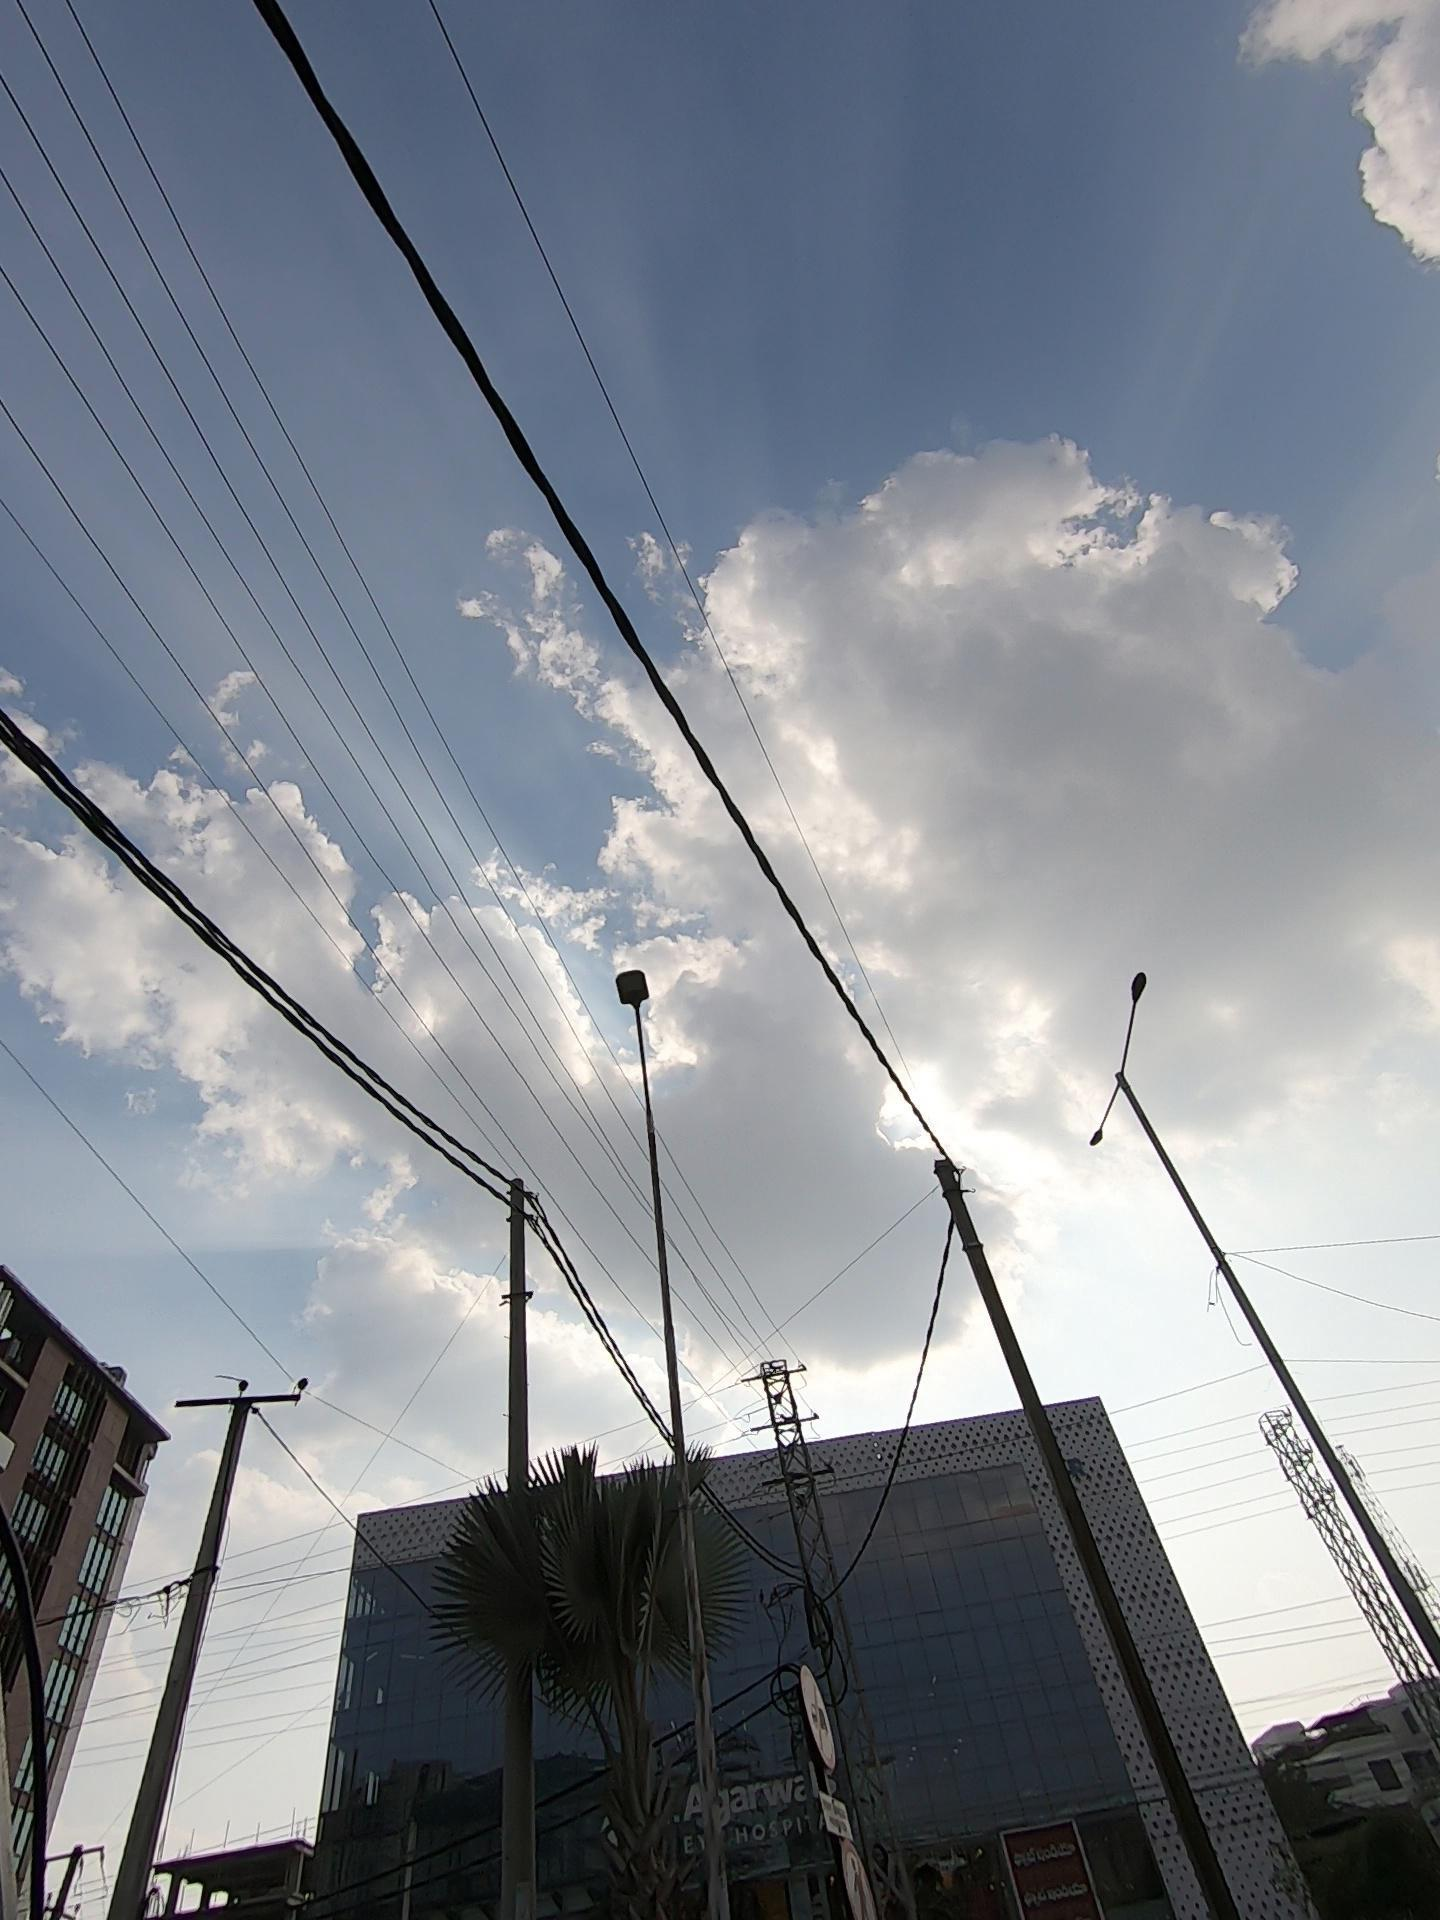off: (560, 875, 764, 1188), (1010, 971, 1219, 1199)
